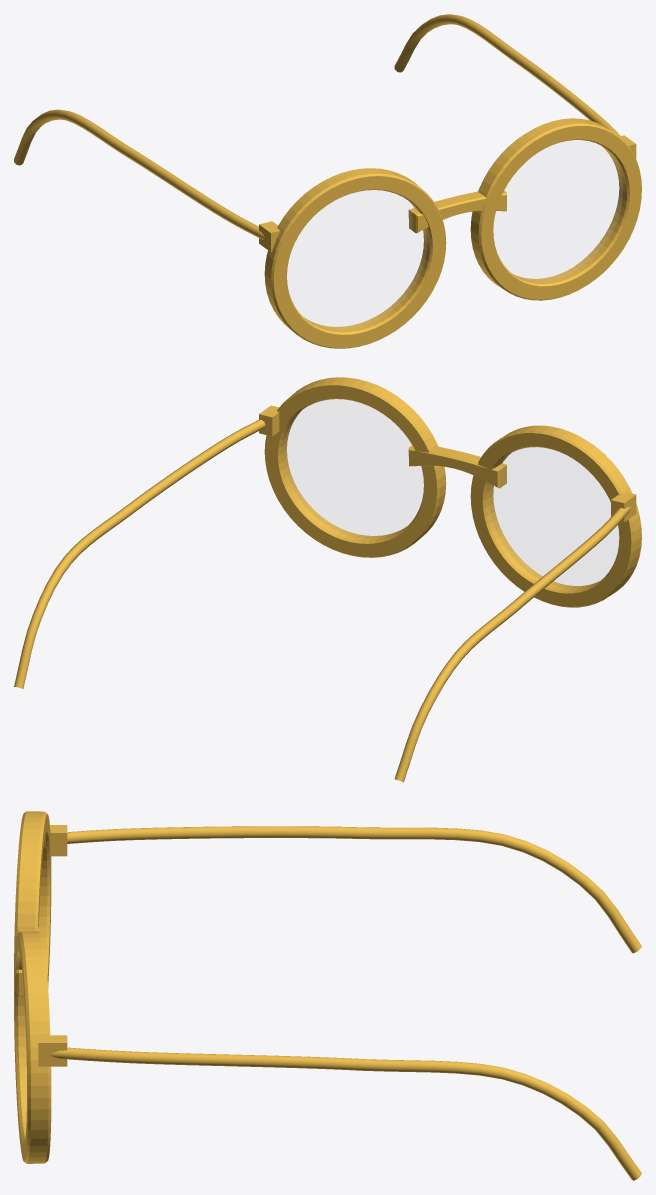
Rendered from NY-K01_Pip_Sunflower.glb.
3 renders of one model, top to bottom at view 1: azimuth 30°, elevation 25°; view 2: azimuth 150°, elevation 25°; view 3: azimuth 270°, elevation 25°, orthographic. The views are drawn at different scales.
Parts seen in each view (by area): view 1: Pip_Sunflower_Acetate, Pip_Sunflower_Lenses; view 2: Pip_Sunflower_Acetate, Pip_Sunflower_Lenses; view 3: Pip_Sunflower_Acetate.
Part boxes in pixels (left/top/right/bottom): Pip_Sunflower_Acetate: left=14, top=14, right=641, bottom=348; Pip_Sunflower_Lenses: left=287, top=140, right=622, bottom=328; Pip_Sunflower_Acetate: left=14, top=377, right=641, bottom=782; Pip_Sunflower_Lenses: left=284, top=399, right=618, bottom=587; Pip_Sunflower_Acetate: left=14, top=811, right=641, bottom=1180.
Bounding box in the file's own units: 0.1241 × 0.0508 × 0.138.
